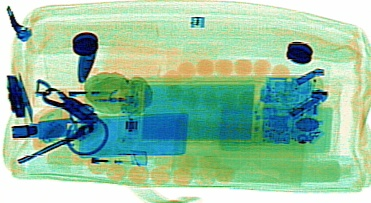lighter: (29, 82, 141, 111), (46, 147, 147, 170)
